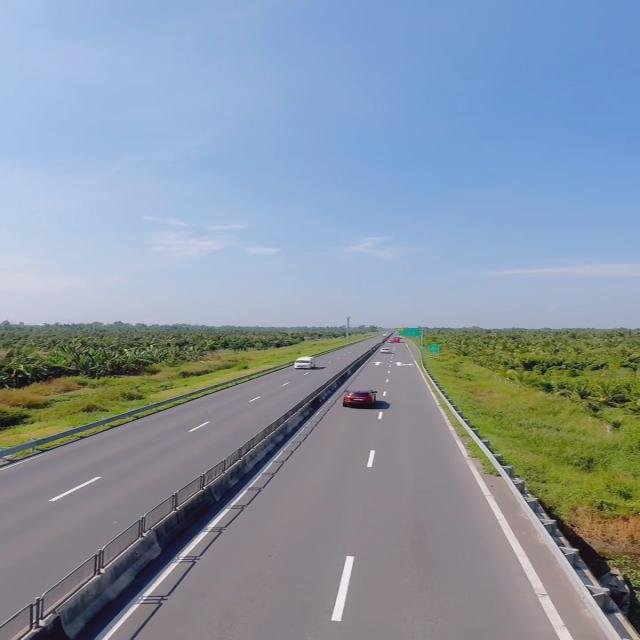car: (343, 387, 380, 408)
